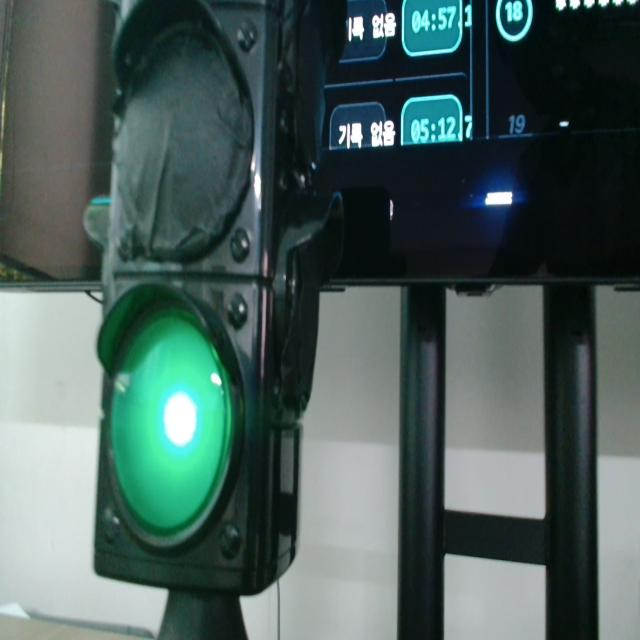green_light: (111, 309, 232, 535)
